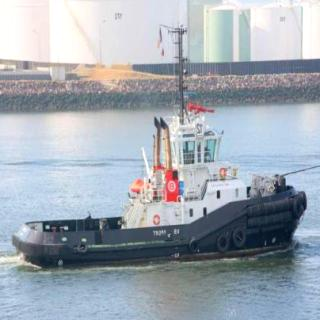Tug Boat: (14, 119, 312, 262)
